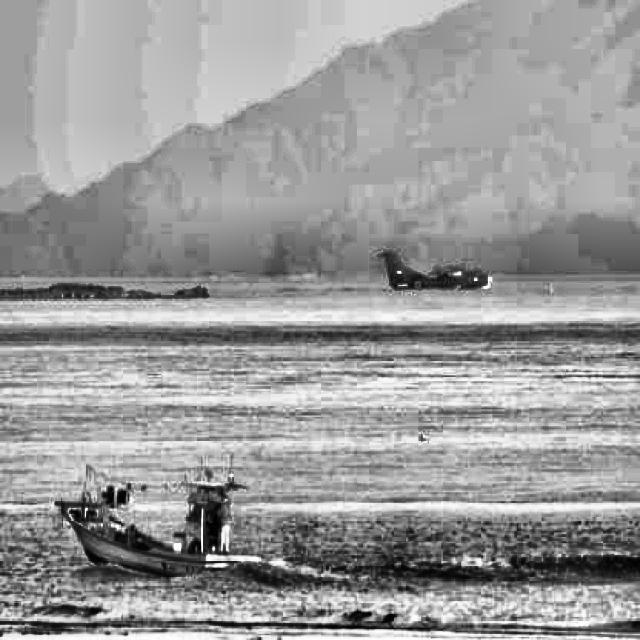US2: (375, 250, 494, 290)
